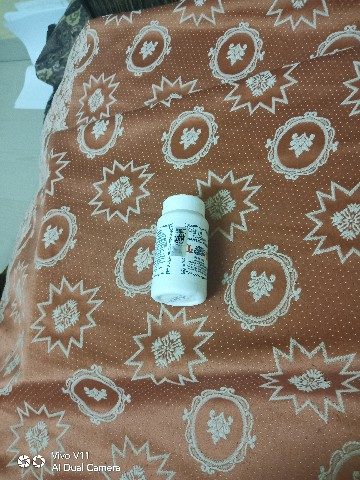lgasafoetidapowder large: (140, 187, 227, 316)
